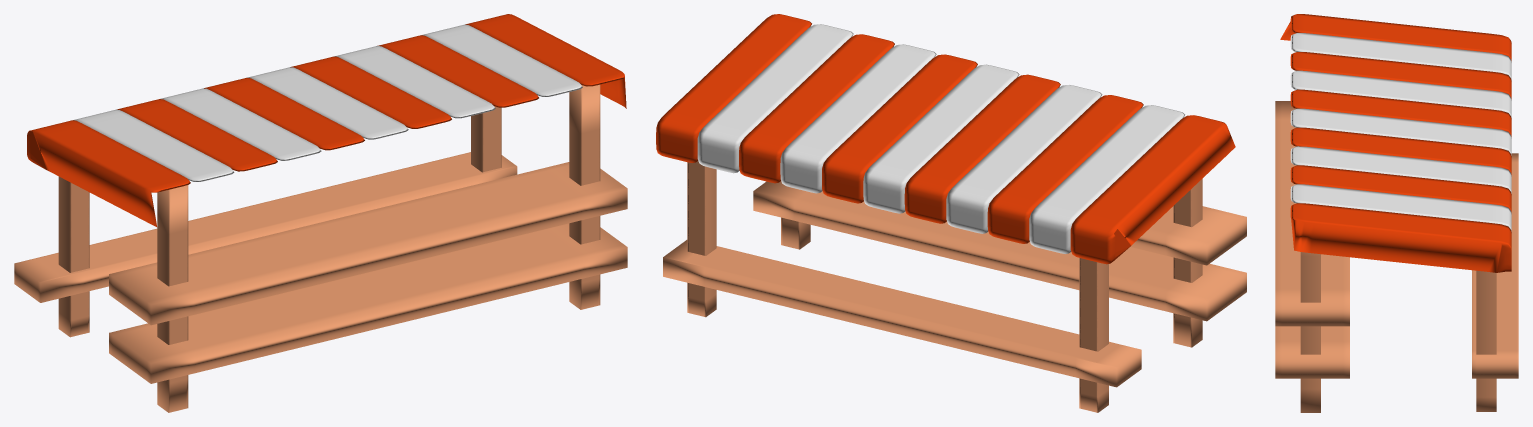
File: shop.fbx
3 renders of one model, left to right at view 1: azimuth 30°, elevation 25°; view 2: azimuth 150°, elevation 25°; view 3: azimuth 270°, elevation 25°, orthographic. The views are drawn at different scales.
Parts seen in each view (by area): view 1: Plane.003; view 2: Plane.003; view 3: Plane.003.
Part boxes in pixels (left/top/right/bottom): Plane.003: left=14, top=14, right=627, bottom=412; Plane.003: left=656, top=14, right=1246, bottom=412; Plane.003: left=1275, top=14, right=1518, bottom=412.
Size of the model in its own units: 2241 by 1008 by 1087.
